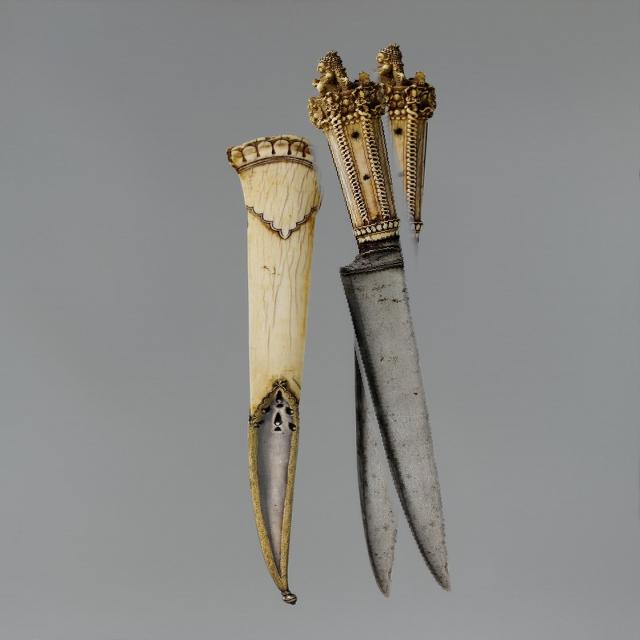knife: (319, 39, 467, 601)
